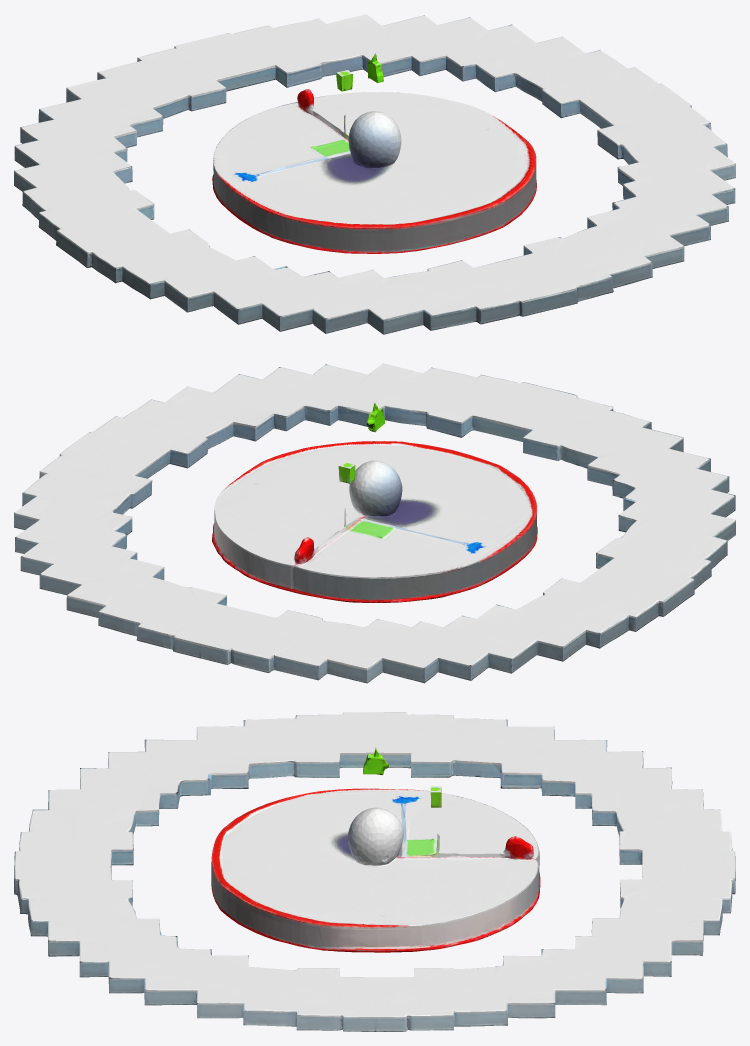
The picture shows the model from 3 angles, top to bottom: view 1: azimuth 30°, elevation 25°; view 2: azimuth 150°, elevation 25°; view 3: azimuth 270°, elevation 25°; orthographic projection. The views are drawn at different scales.
Parts seen in each view (by area): view 1: world; view 2: world; view 3: world.
Part boxes in pixels (x1,y1,x2,y2): world: (14, 14, 735, 334); world: (14, 363, 735, 683); world: (14, 712, 735, 1031).
Bounding box in the file's own units: 0.9959 × 0.2556 × 0.9954.
Materials: 1 (1 with a texture image).
